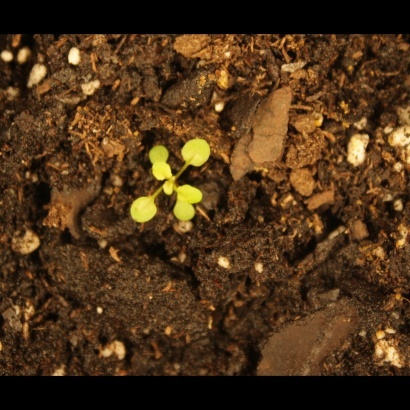leaf: (121, 189, 161, 229), (178, 133, 214, 171), (171, 198, 195, 230), (176, 181, 205, 207), (144, 140, 169, 169), (153, 161, 176, 184), (159, 177, 182, 200)
